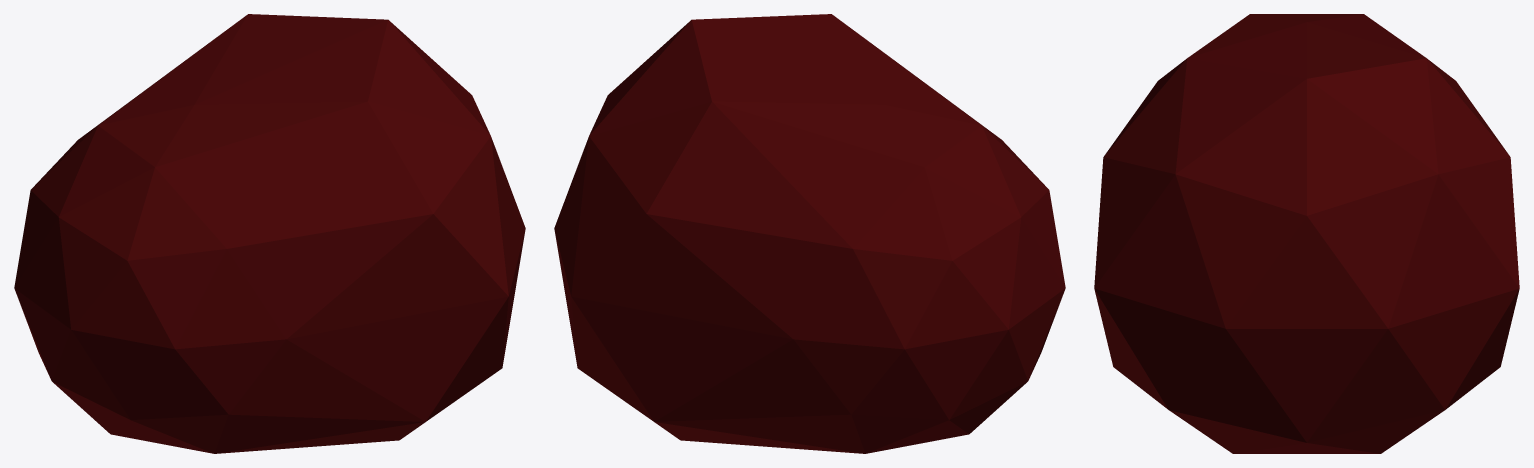
The model's file is FireBall.fbx.
The picture shows the model from 3 angles, left to right: view 1: azimuth 30°, elevation 25°; view 2: azimuth 150°, elevation 25°; view 3: azimuth 270°, elevation 25°; orthographic projection.
Parts seen in each view (by area): view 1: Icosphere; view 2: Icosphere; view 3: Icosphere.
Boxes of the visible parts, <box> form: Icosphere: <box>14,14,525,453</box>; Icosphere: <box>554,14,1065,453</box>; Icosphere: <box>1094,14,1519,453</box>.
Bounding box in the file's own units: 194 × 163 × 162.
